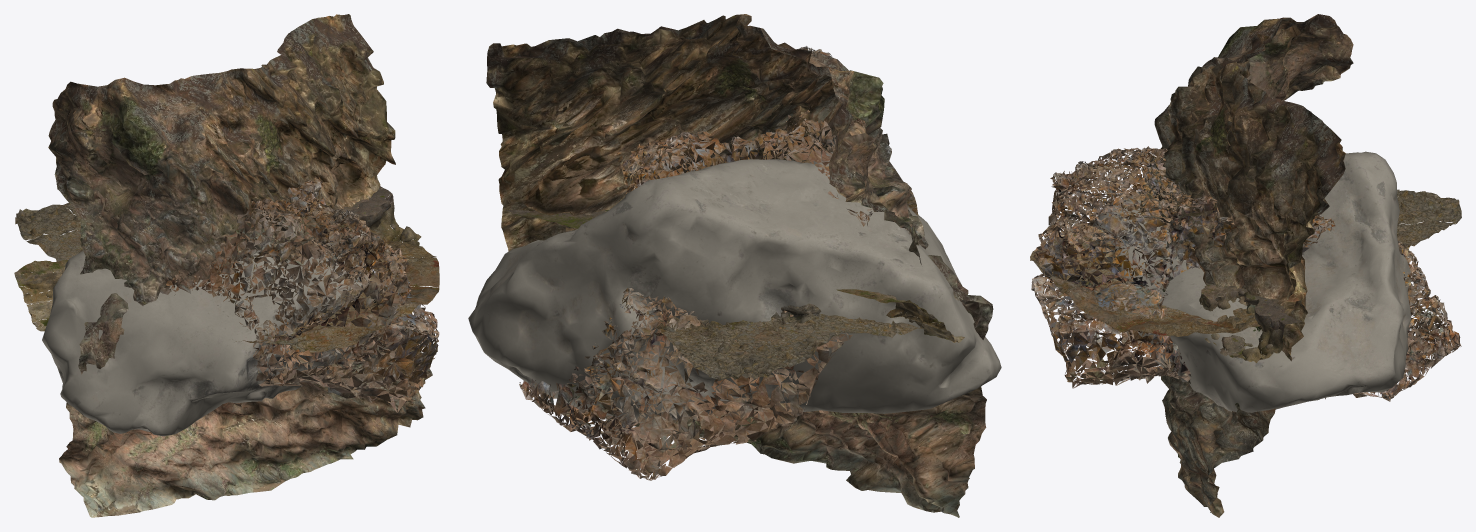
Rendered from cave_rocks.glb.
3 renders of one model, left to right at view 1: azimuth 30°, elevation 25°; view 2: azimuth 150°, elevation 25°; view 3: azimuth 270°, elevation 25°, orthographic. The views are drawn at different scales.
Parts seen in each view (by area): view 1: CaveRockPH_2, CaveRockPH_4, CaveRockPH_3, CaveRockPH_1, CaveRockPH_0; view 2: CaveRockPH_4, CaveRockPH_2, CaveRockPH_3, CaveRockPH_1, CaveRockPH_0; view 3: CaveRockPH_2, CaveRockPH_4, CaveRockPH_3, CaveRockPH_1, CaveRockPH_0.
Part boxes in pixels (box(x1,y1,x2,y2)): CaveRockPH_2: box(48, 14, 432, 517); CaveRockPH_4: box(42, 230, 412, 436); CaveRockPH_3: box(160, 176, 439, 412); CaveRockPH_1: box(15, 202, 439, 352); CaveRockPH_0: box(14, 186, 421, 331); CaveRockPH_4: box(468, 152, 1001, 421); CaveRockPH_2: box(486, 14, 993, 517); CaveRockPH_3: box(519, 46, 910, 480); CaveRockPH_1: box(565, 191, 923, 379); CaveRockPH_0: box(505, 209, 964, 342); CaveRockPH_2: box(1139, 14, 1353, 517); CaveRockPH_4: box(1090, 151, 1411, 412); CaveRockPH_3: box(1031, 146, 1461, 401); CaveRockPH_1: box(1030, 189, 1461, 336); CaveRockPH_0: box(1199, 284, 1301, 362).
Size of the model in its own units: 4 by 4 by 4.
Materials: 5 (5 with a texture image).
